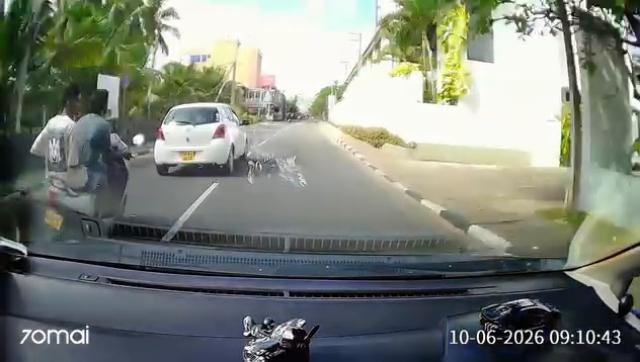no helmet: (55, 84, 82, 123), (90, 89, 113, 121)
